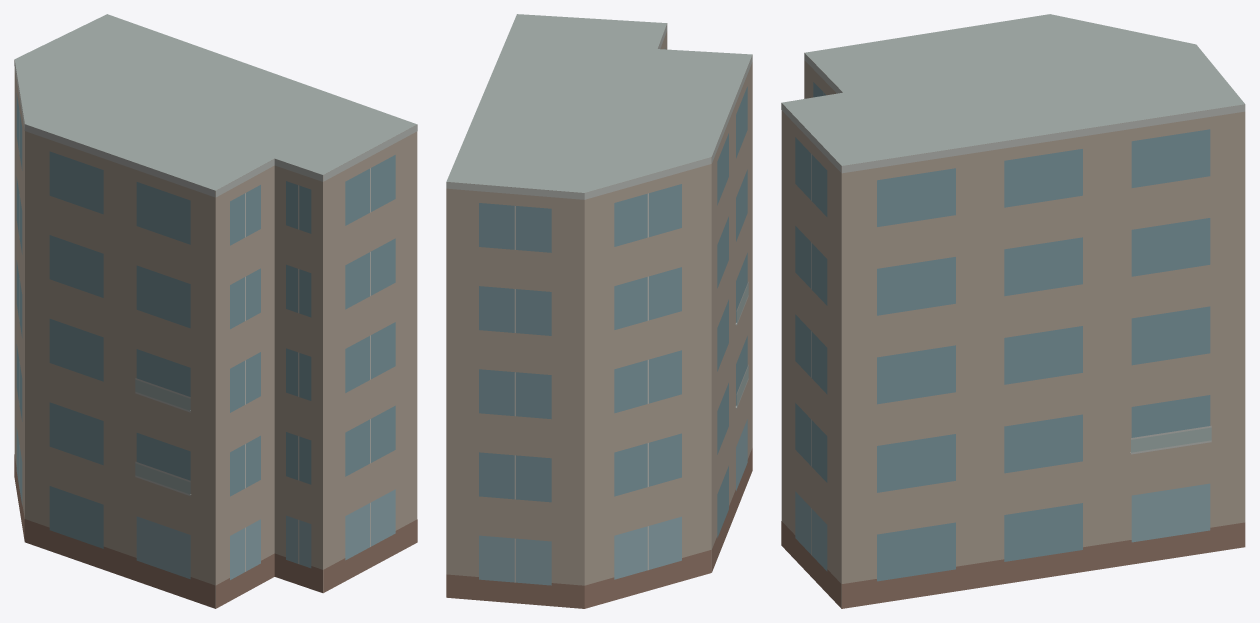
File: survey-upis-33005516.glb
The picture shows the model from 3 angles, left to right: view 1: azimuth 30°, elevation 25°; view 2: azimuth 150°, elevation 25°; view 3: azimuth 270°, elevation 25°; orthographic projection. The views are drawn at different scales.
Parts seen in each view (by area): view 1: survey-upis-33005516.tmp; view 2: survey-upis-33005516.tmp; view 3: survey-upis-33005516.tmp.
Part boxes in pixels (bbox=[...]): survey-upis-33005516.tmp: bbox=[14, 14, 417, 608]; survey-upis-33005516.tmp: bbox=[446, 14, 752, 608]; survey-upis-33005516.tmp: bbox=[781, 14, 1245, 608].
Bounding box in the file's own units: 10.91 × 14.8 × 14.06.
